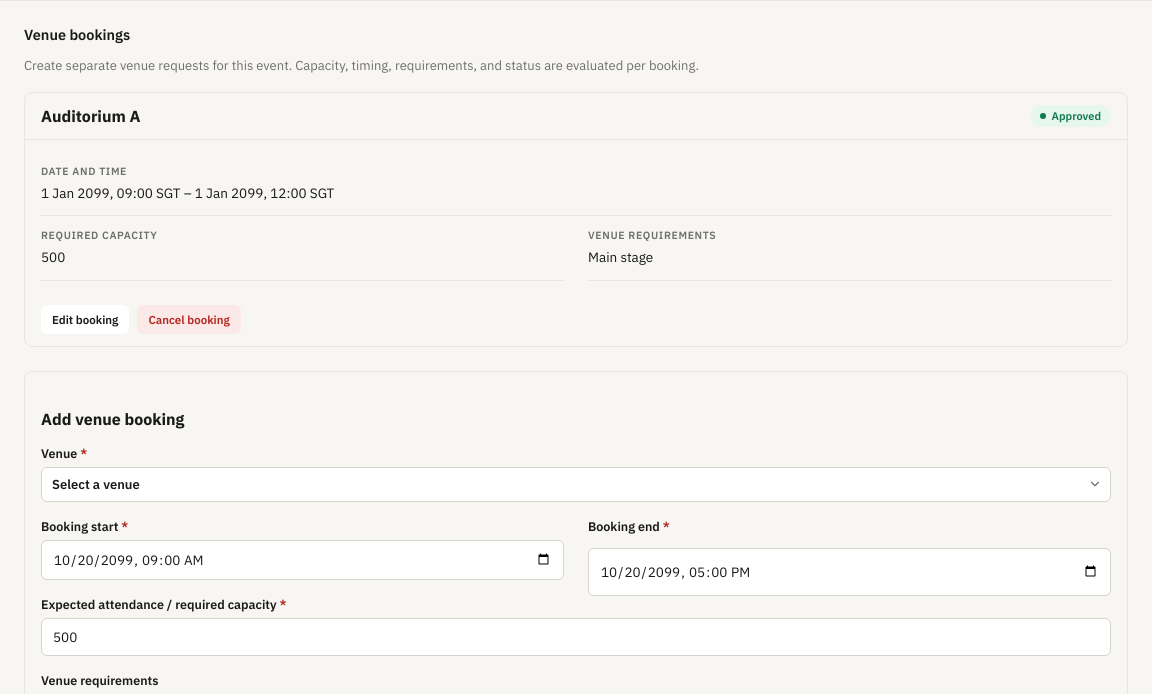
Test: fractional booking timestamps display and edit the same SGT period: 2099-01-01T09:00:00.123456
Check: the text "Auditorium A" is shown, box [41, 106, 140, 126]
Check: the text "1 Jan 2099, 09:00 SGT – 1 Jan 2099, 12:00 SGT" is shown, box [41, 184, 334, 202]
Click the button "Edit booking": point(85, 319) [41, 305, 129, 334]
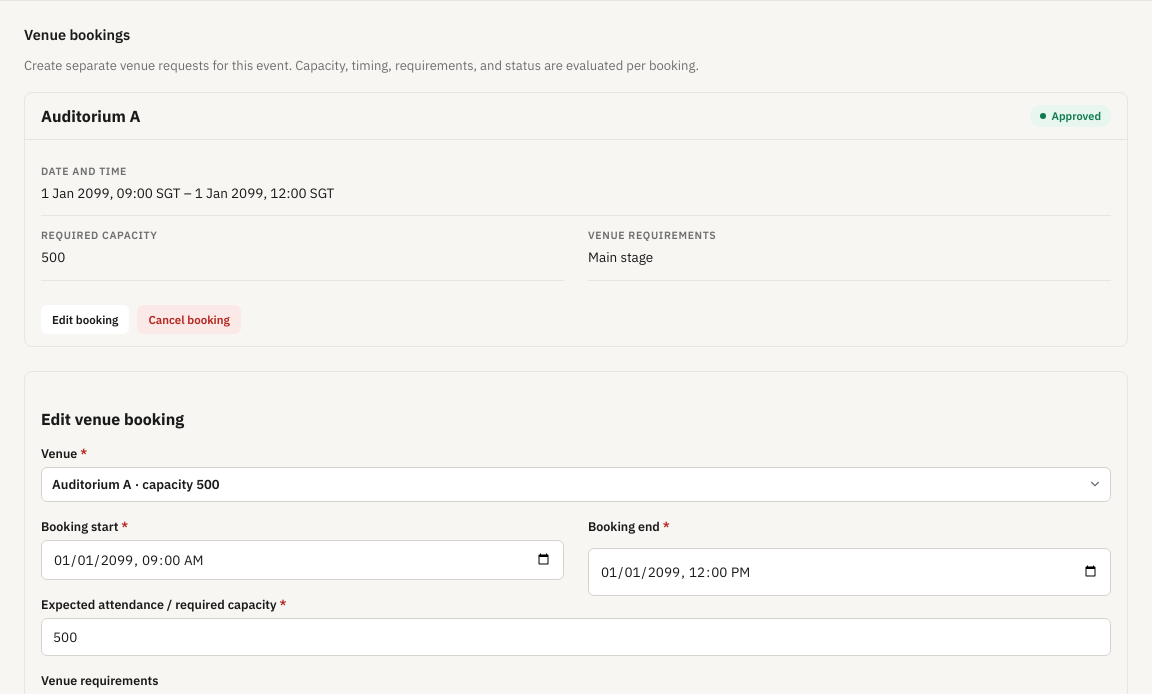
Check: the field labelled "Booking start *" holds "2099-01-01T09:00", box [41, 540, 564, 580]
Check: the field labelled "Booking end *" holds "2099-01-01T12:00", box [588, 548, 1111, 596]
